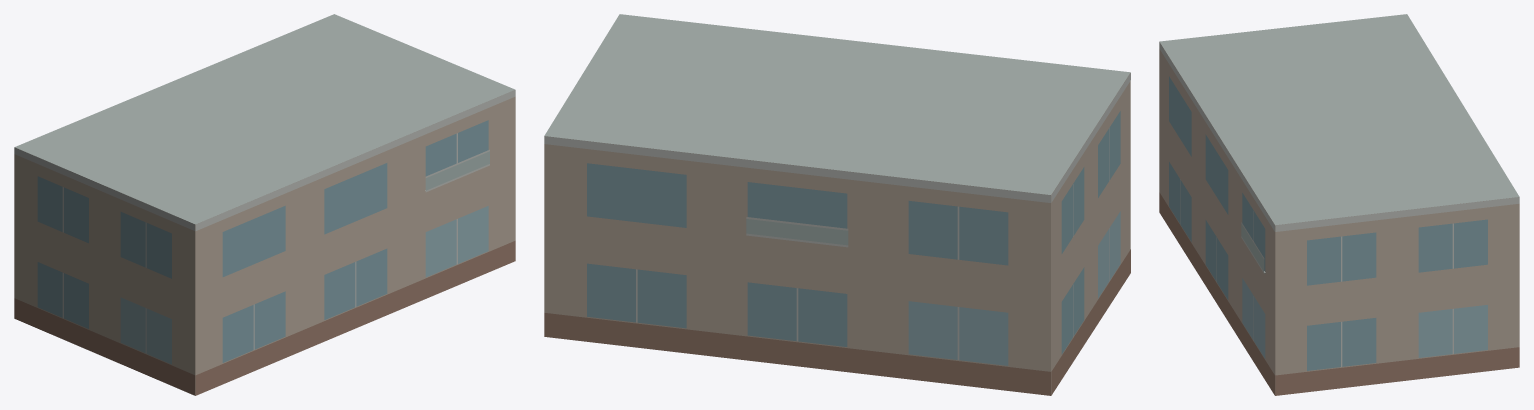
File: survey-upis-32715188.glb
The picture shows the model from 3 angles, left to right: view 1: azimuth 30°, elevation 25°; view 2: azimuth 150°, elevation 25°; view 3: azimuth 270°, elevation 25°; orthographic projection. The views are drawn at different scales.
Parts seen in each view (by area): view 1: survey-upis-32715188.tmp; view 2: survey-upis-32715188.tmp; view 3: survey-upis-32715188.tmp.
Part boxes in pixels (left/top/right/bottom): survey-upis-32715188.tmp: left=14, top=14, right=515, bottom=395; survey-upis-32715188.tmp: left=544, top=14, right=1130, bottom=395; survey-upis-32715188.tmp: left=1159, top=14, right=1519, bottom=395.
Size of the model in its own units: 16.21 by 6.1 by 11.69.
